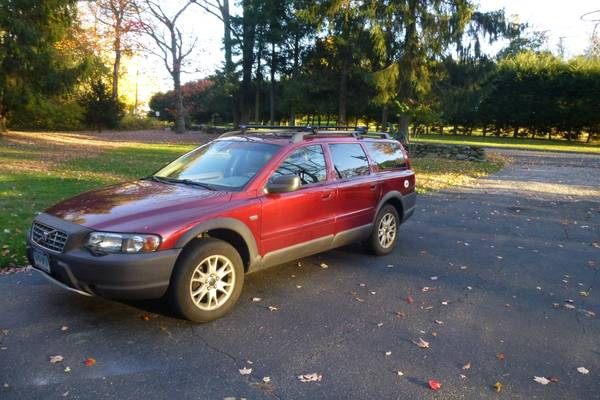volvo: (26, 120, 471, 329)
